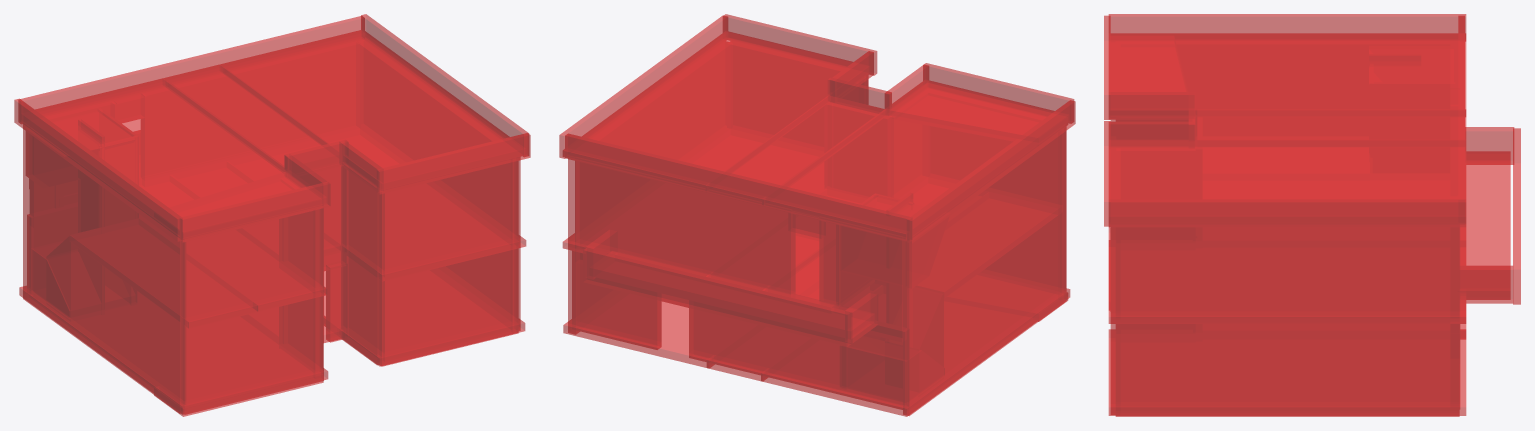
The model's file is SM_Bld_House_02_C_Collision.fbx.
3 views of the same model, side by side, from view 1: azimuth 30°, elevation 25°; view 2: azimuth 150°, elevation 25°; view 3: azimuth 270°, elevation 25° (orthographic). The views are drawn at different scales.
Visible parts, largest first — view 1: SM_Bld_House_02_C_Collision; view 2: SM_Bld_House_02_C_Collision; view 3: SM_Bld_House_02_C_Collision.
Boxes of the visible parts, x1=… form: SM_Bld_House_02_C_Collision: x1=14, y1=14, x2=530, y2=416; SM_Bld_House_02_C_Collision: x1=559, y1=14, x2=1075, y2=416; SM_Bld_House_02_C_Collision: x1=1104, y1=14, x2=1520, y2=416.
Size of the model in its own units: 1336 by 726 by 1250.
